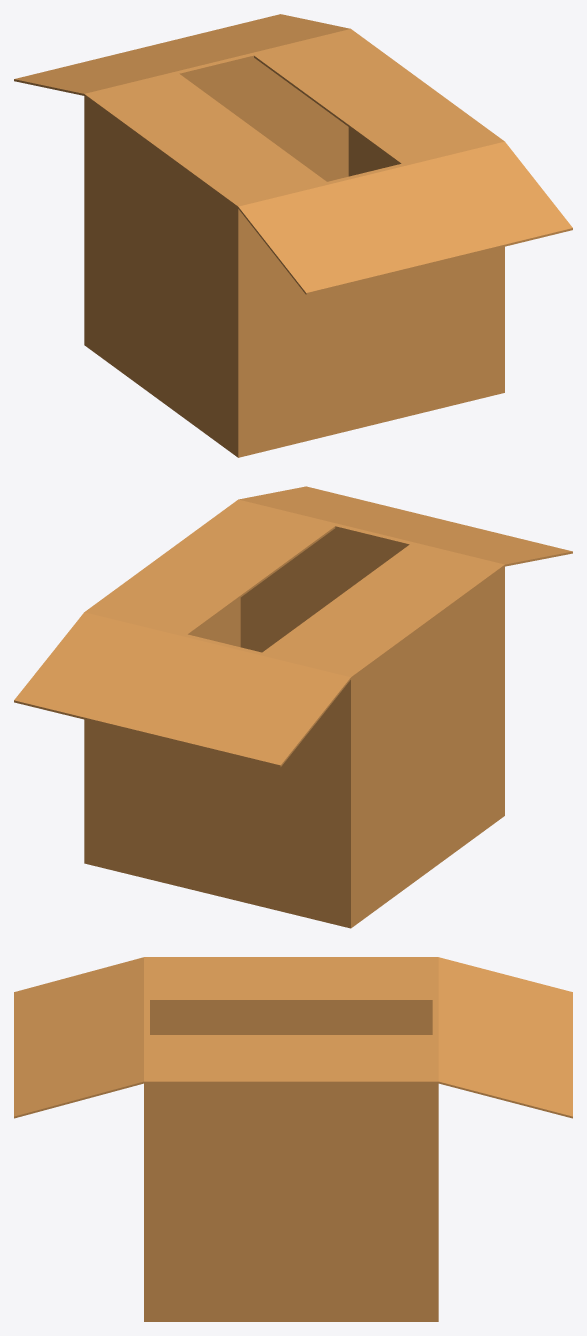
The model's file is carboard_box_asset.fbx.
3 views of the same model, one above another, from view 1: azimuth 30°, elevation 25°; view 2: azimuth 150°, elevation 25°; view 3: azimuth 270°, elevation 25° (orthographic). The views are drawn at different scales.
Visible parts, largest first — view 1: CardboardBox; view 2: CardboardBox; view 3: CardboardBox.
Boxes of the visible parts, left/top/right/bottom form: CardboardBox: left=14, top=14, right=572, bottom=457; CardboardBox: left=14, top=486, right=572, bottom=928; CardboardBox: left=14, top=957, right=572, bottom=1321.
Bounding box in the file's own units: 200 × 180 × 380.
